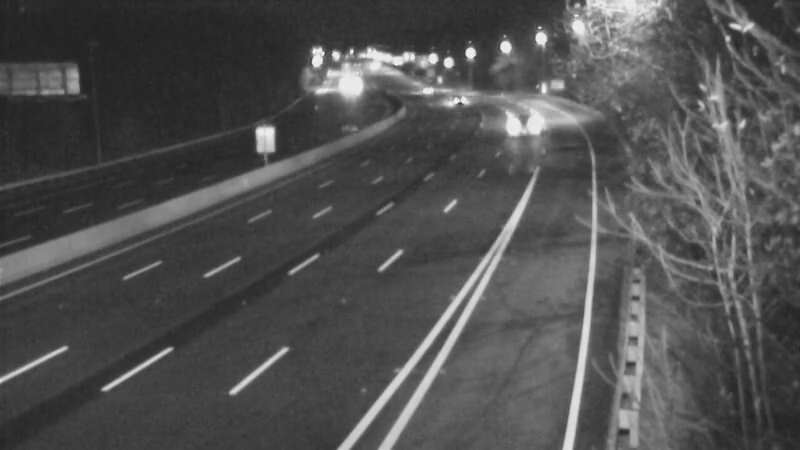vehicle: (403, 64, 453, 114), (426, 76, 476, 126), (502, 91, 552, 141), (327, 69, 377, 119)
